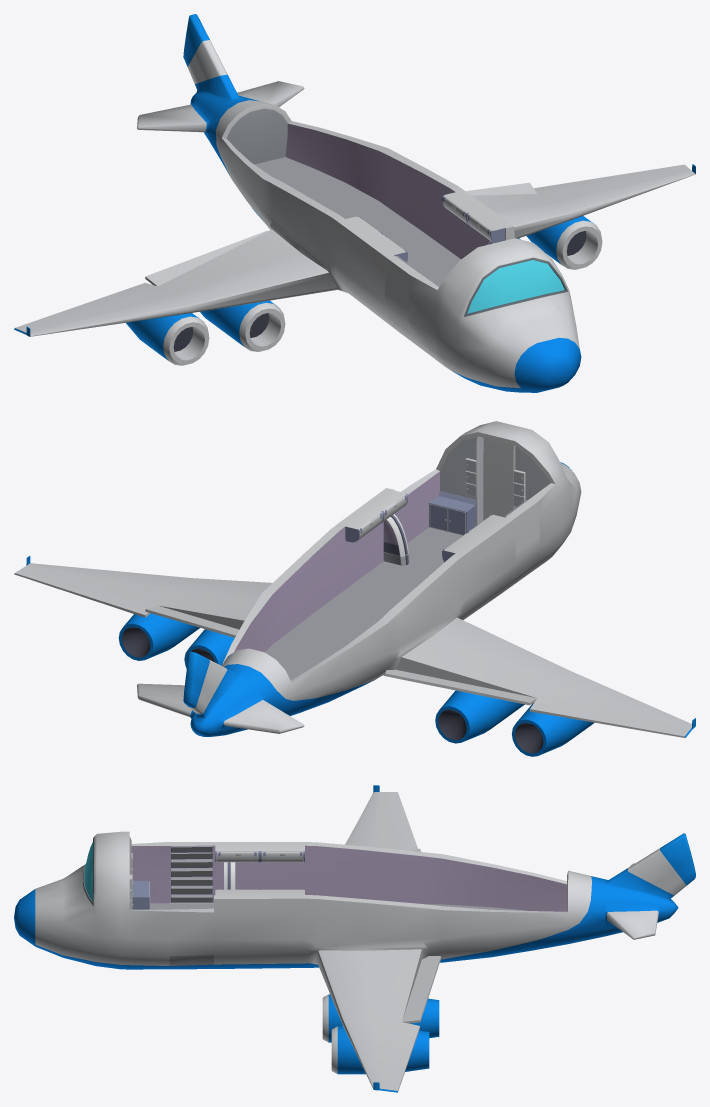
File: Airplane.FBX
The picture shows the model from 3 angles, top to bottom: view 1: azimuth 30°, elevation 25°; view 2: azimuth 150°, elevation 25°; view 3: azimuth 270°, elevation 25°; orthographic projection. The views are drawn at different scales.
Parts seen in each view (by area): view 1: Airplane, Airplane_Door; view 2: Airplane, Airplane_Door; view 3: Airplane, Airplane_Door.
Boxes of the visible parts, x1,y1,x2,y2 form: Airplane: (14,14,695,392); Airplane_Door: (384,256,420,336); Airplane: (14,421,695,756); Airplane_Door: (504,499,540,580); Airplane: (14,785,695,1092); Airplane_Door: (169,842,213,902).
Size of the model in its own units: 1330 by 310 by 1279.
1 material, 1 textured.
